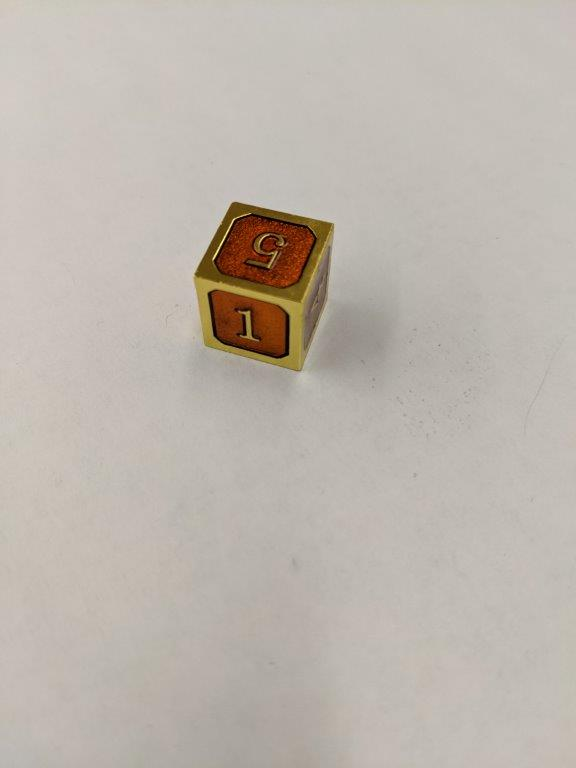d6-5: (192, 199, 336, 369)
